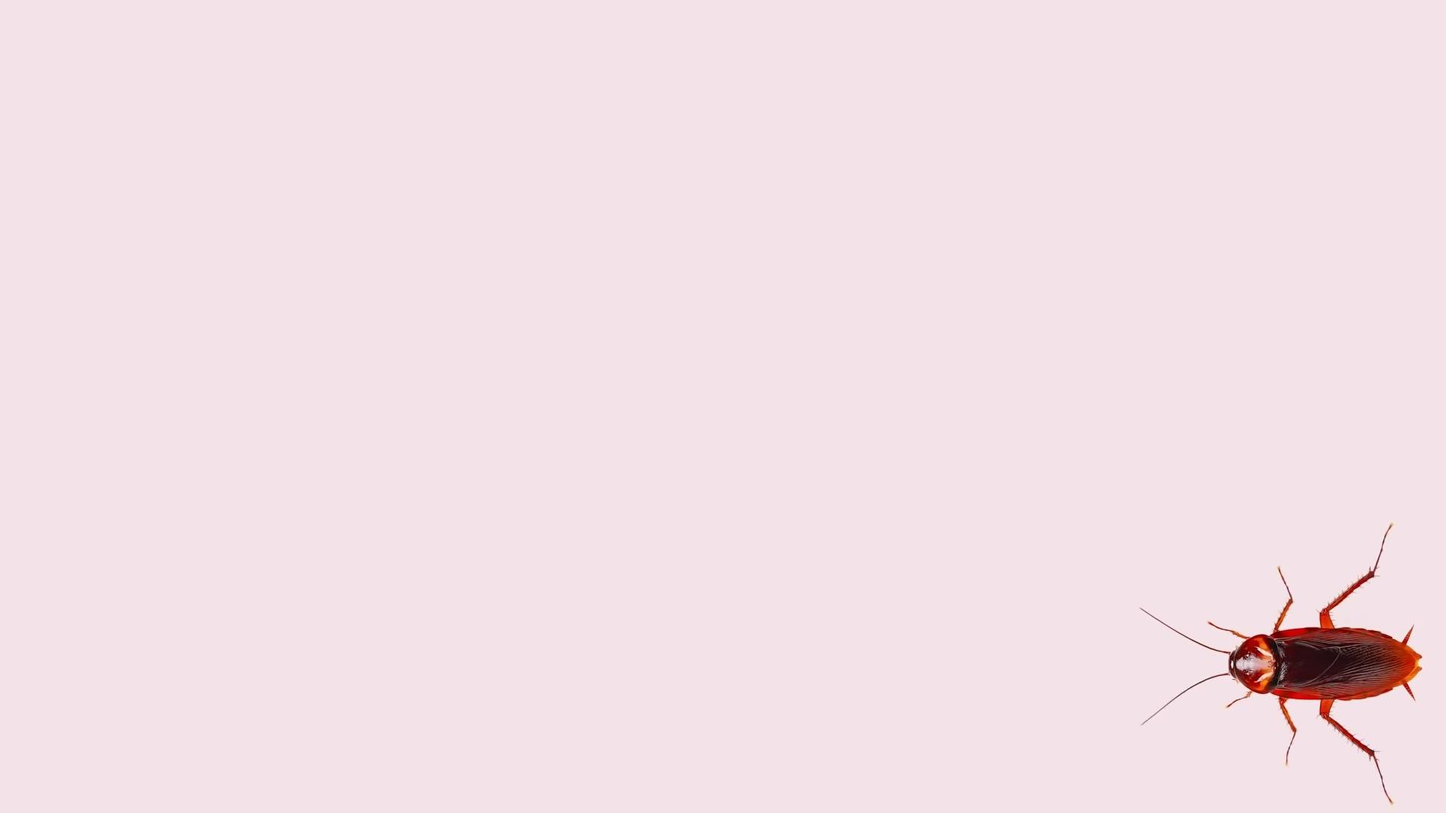cockroach: (1136, 552, 1423, 773)
